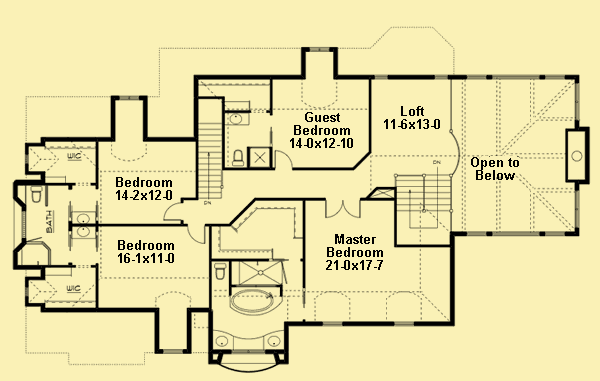door: (321, 197, 364, 219), (187, 222, 211, 247), (273, 146, 296, 169), (162, 202, 184, 222)
large_sink: (230, 146, 246, 170), (212, 261, 230, 282), (27, 185, 45, 205)
small_sink: (212, 330, 283, 350), (70, 211, 97, 226), (223, 112, 250, 126), (72, 225, 97, 239)
stairs: (394, 174, 453, 248), (196, 97, 225, 207)
tub: (230, 287, 280, 317)
window: (462, 74, 568, 81), (117, 92, 139, 103), (320, 318, 342, 327), (390, 320, 416, 327), (307, 47, 331, 54), (160, 348, 182, 355)
